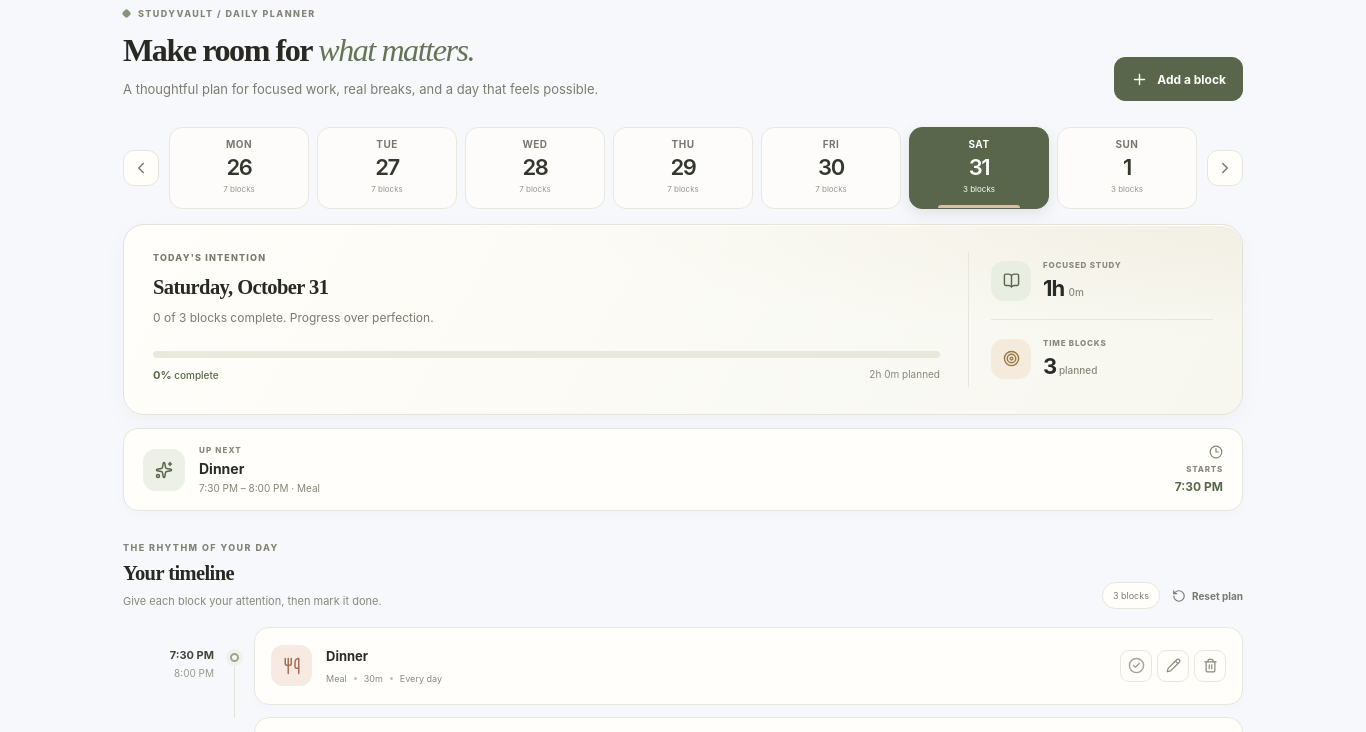
Test case: DailyTimetable › adds a block and persists the updated plan
This screenshot has width=1366, height=732.
Click the button "Mon 26 7 blocks" at coordinates (239, 168), box [169,127,309,209]
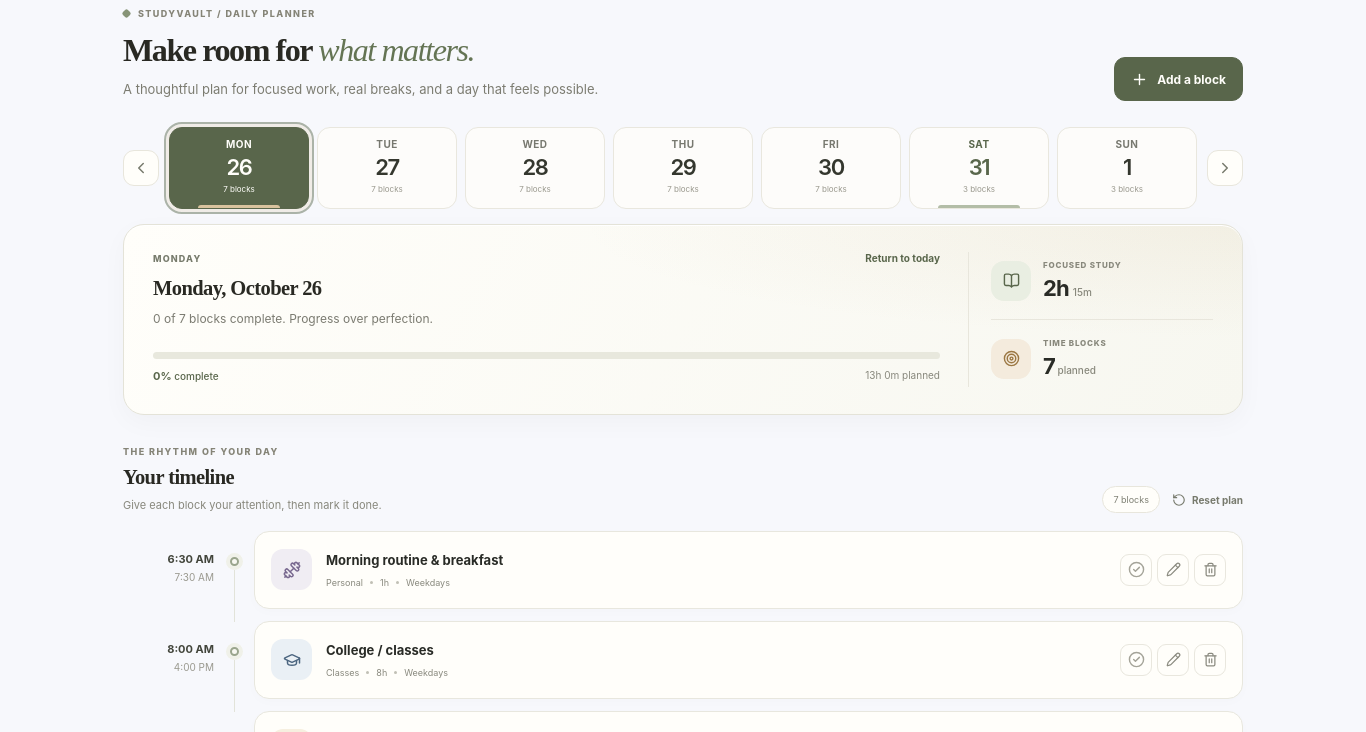
Click the button "Add a block" at coordinates (1179, 79), box [1114,57,1243,101]
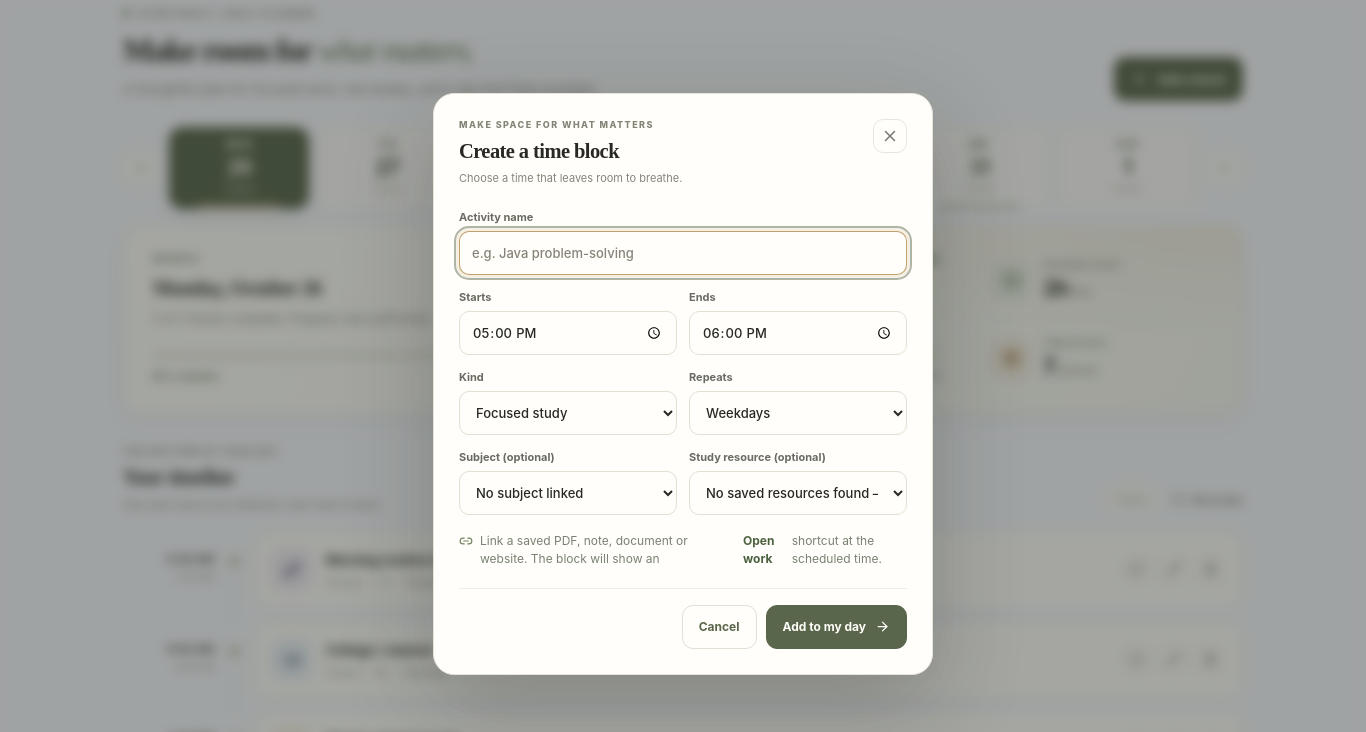
Type "Java practice" into the field with placeholder "e.g. Java problem-solving" at coordinates (683, 253), box [459,231,907,275]
Replace the text in the time field labelled "Starts" with "18:15" at coordinates (568, 333), box [459,311,677,355]
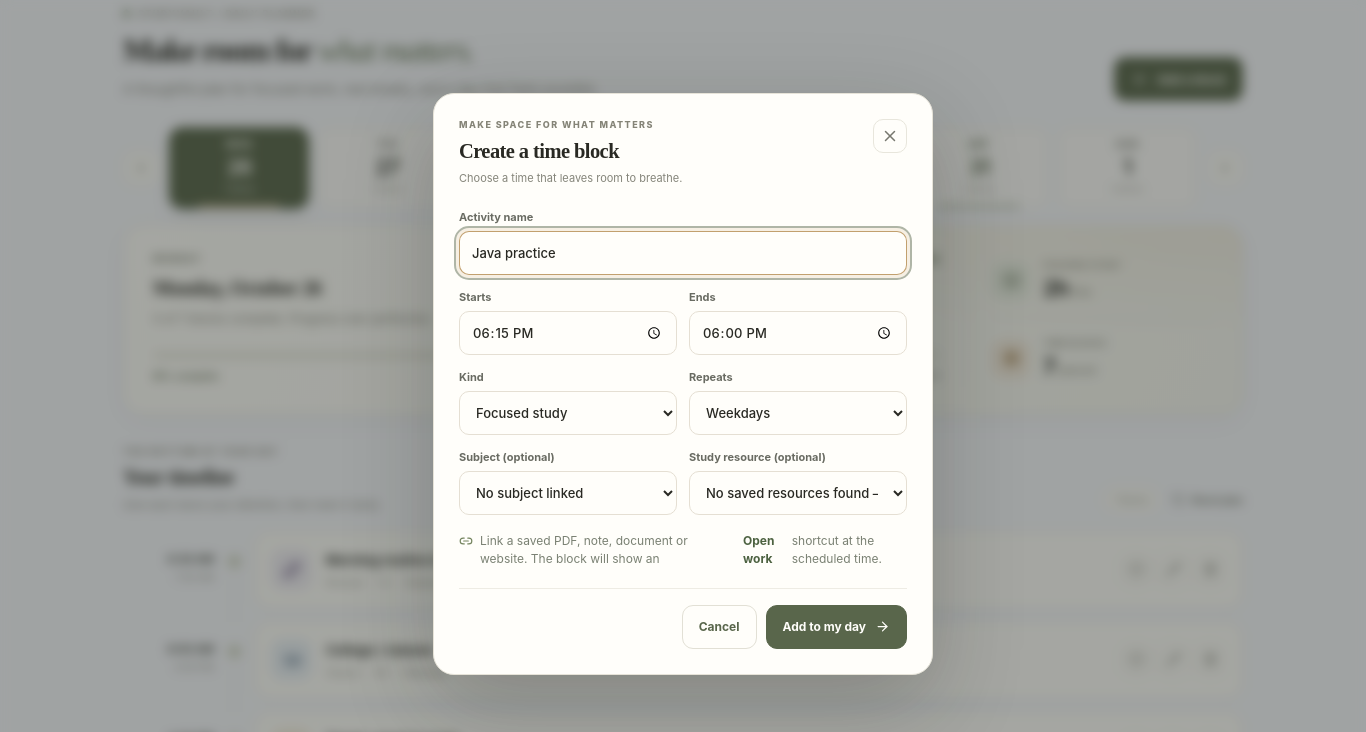
Replace the text in the time field labelled "Ends" with "19:00" at coordinates (798, 333), box [689,311,907,355]
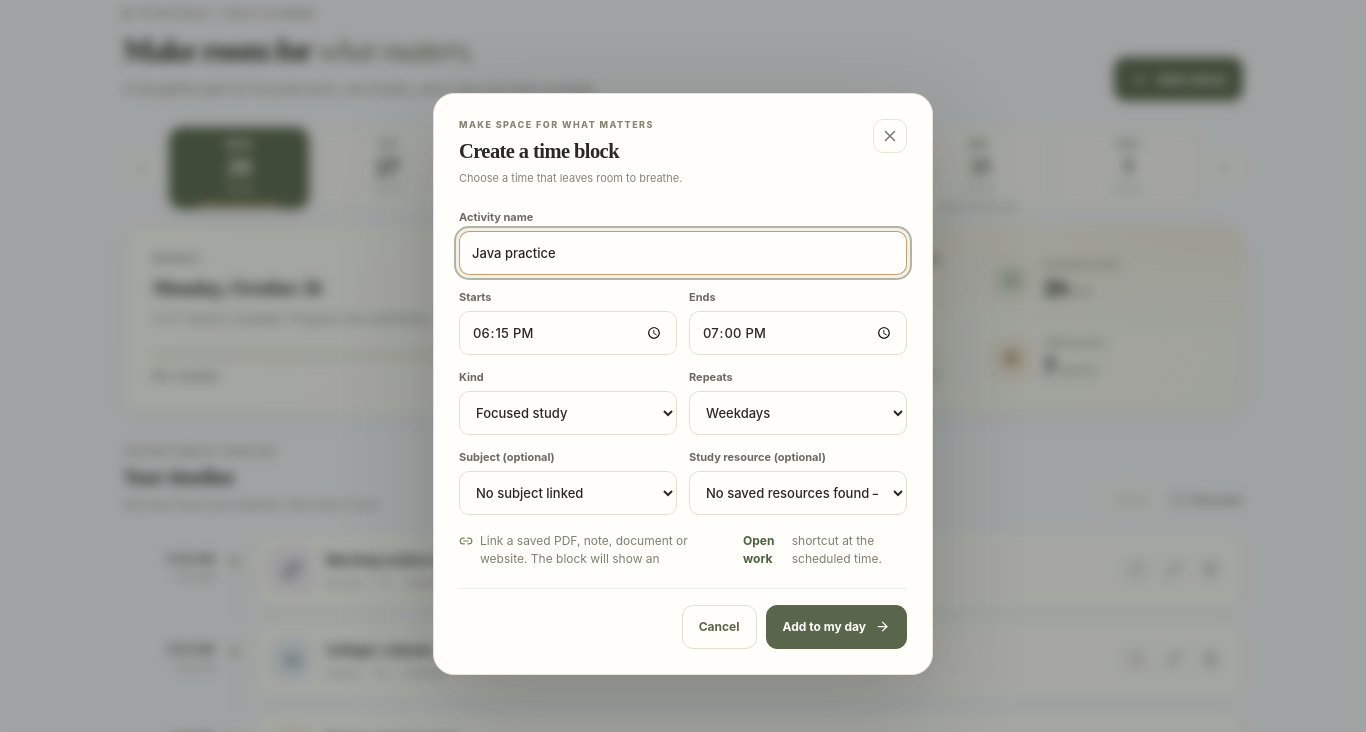
Select "Weekdays" in the dropdown labelled "Repeats" at coordinates (798, 413), box [689,391,907,435]
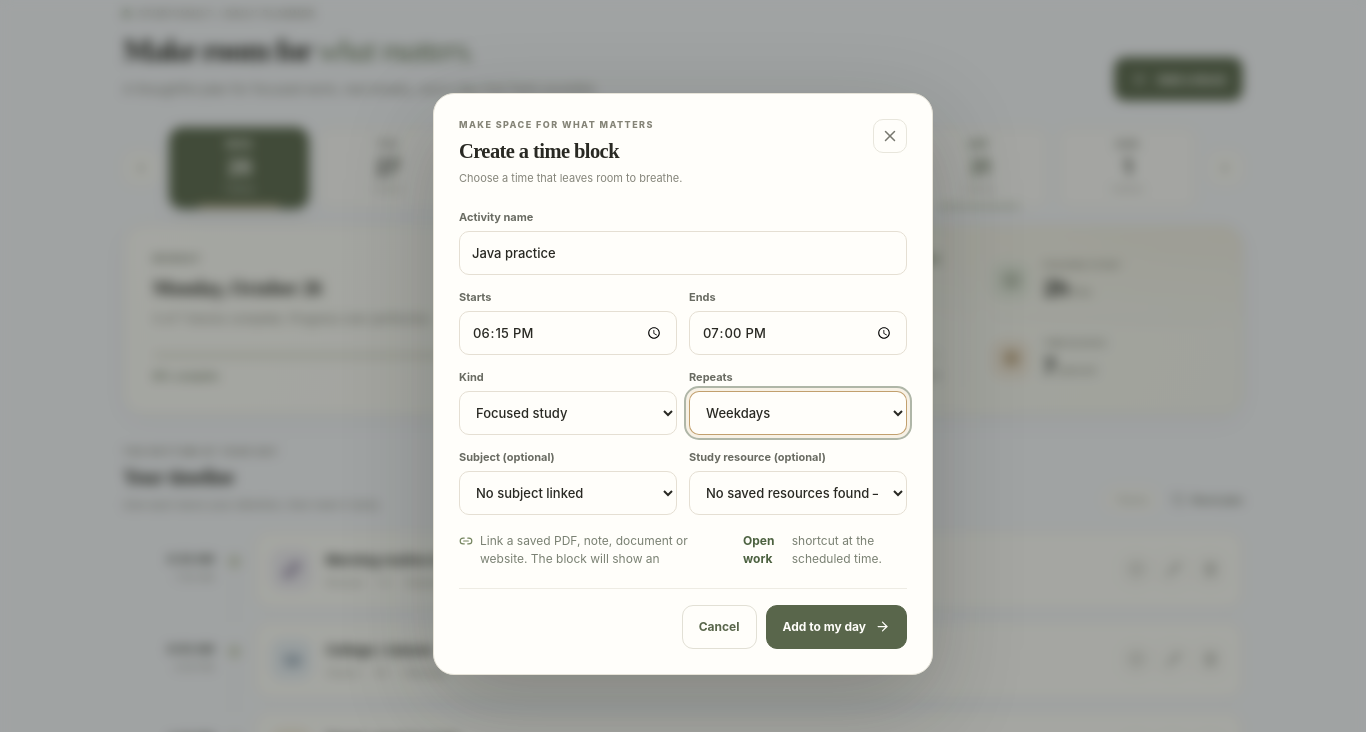
Click the button "Add to my day" at coordinates (836, 627), box [766,605,907,649]
(page scrolled)
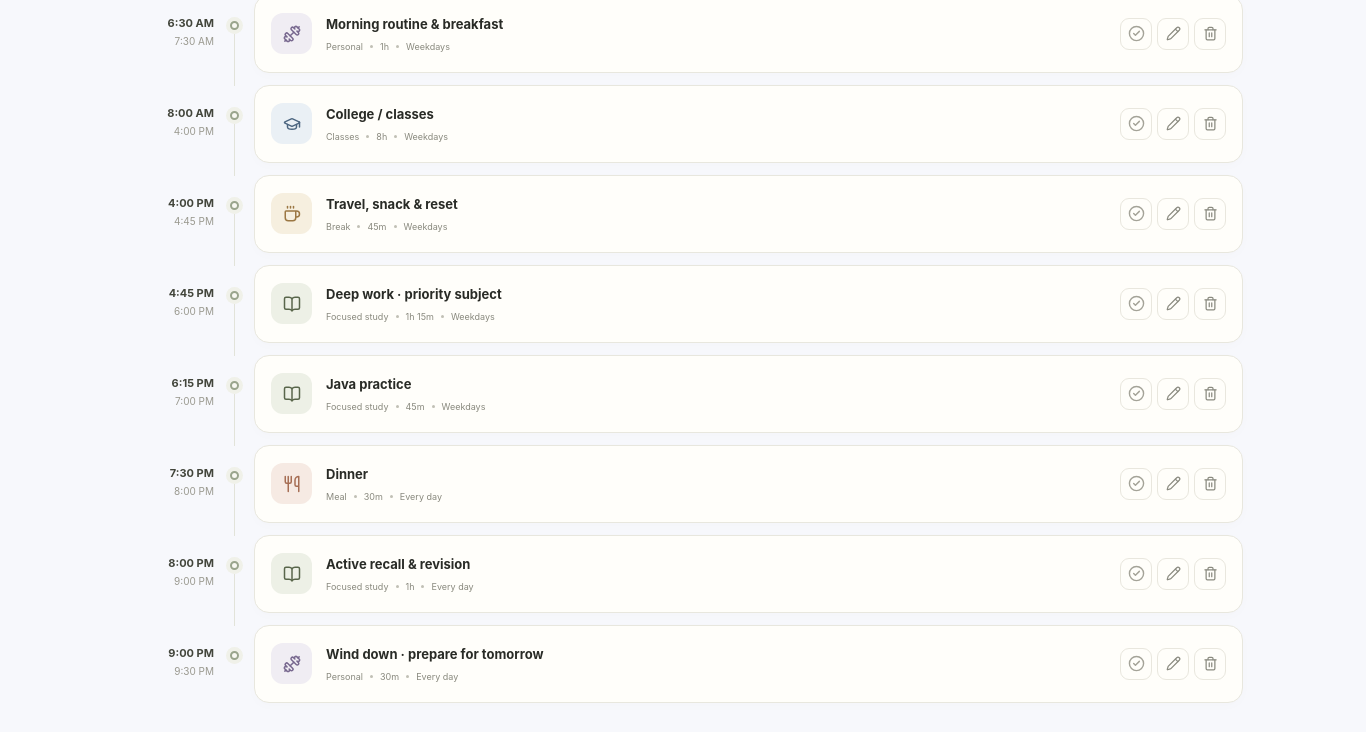
Expected: the text "Java practice" is shown, [326,376,411,392]
